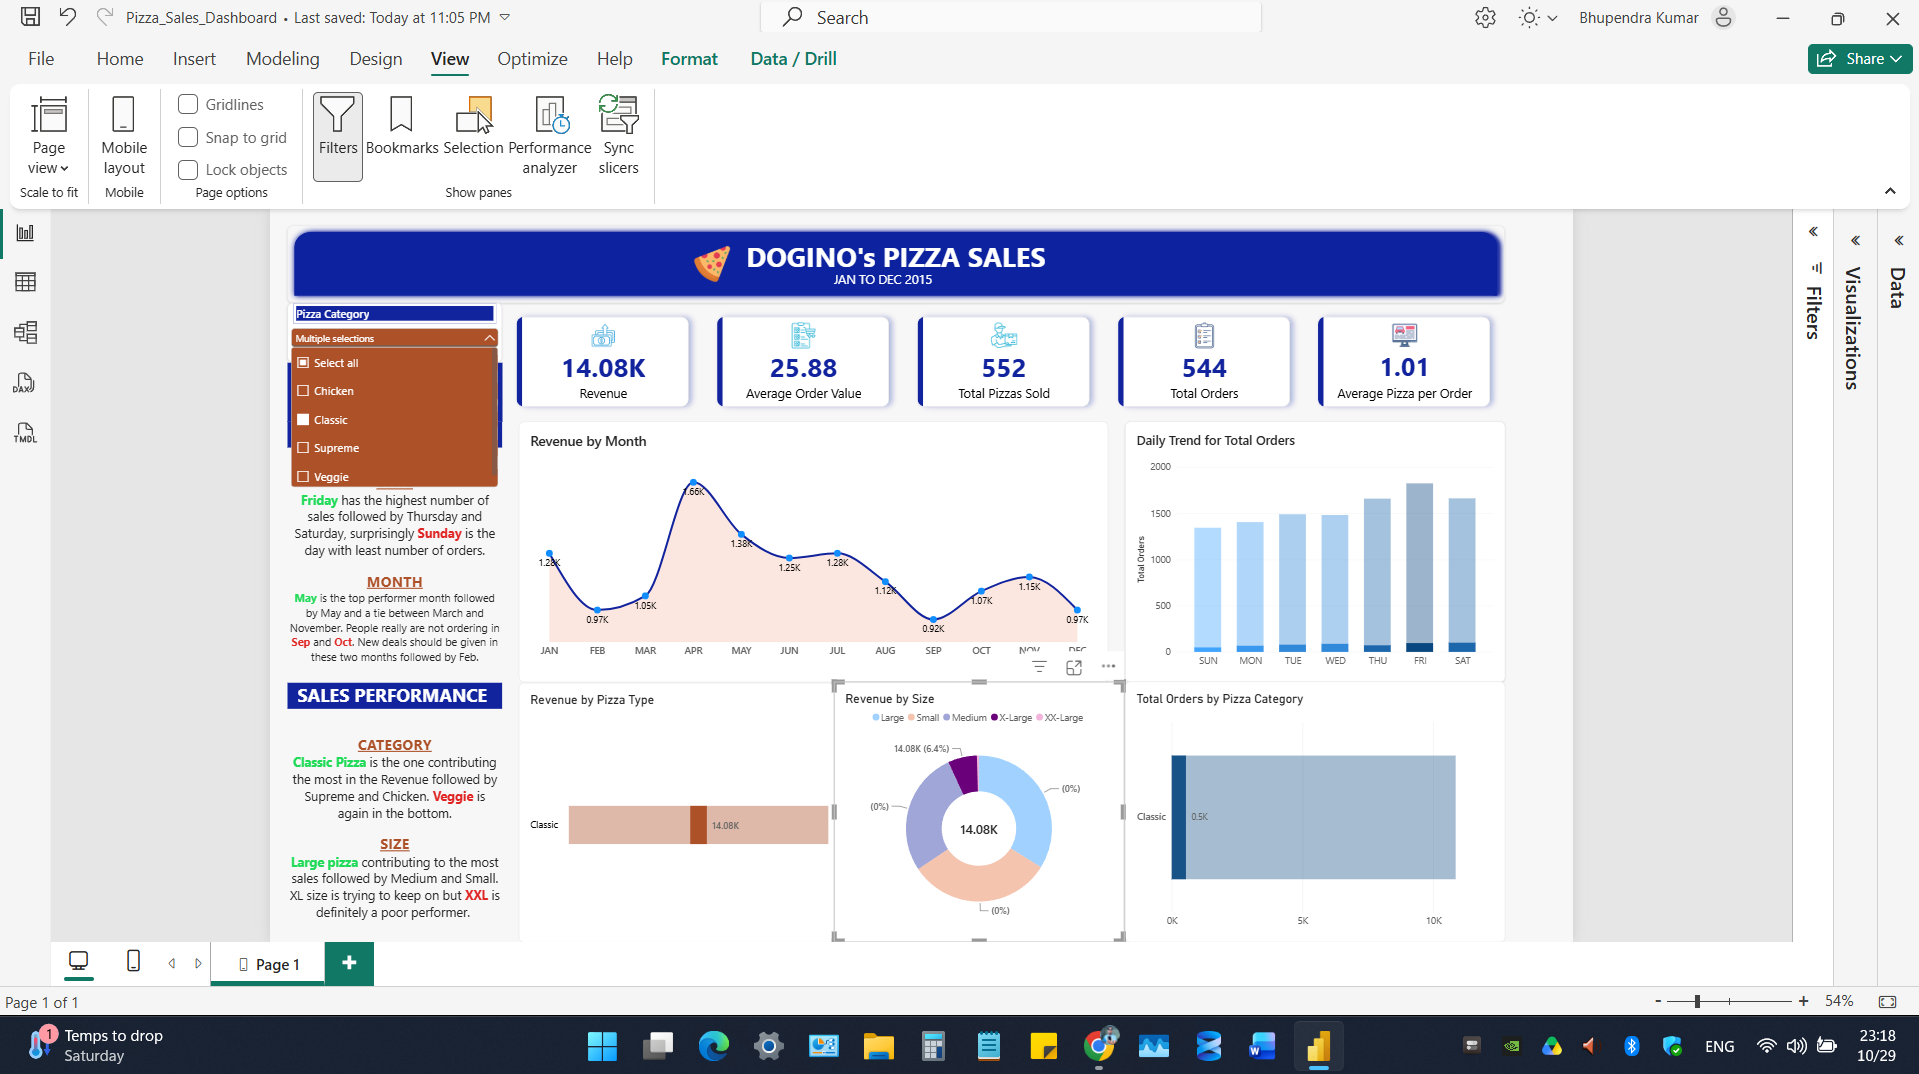

This screenshot's page, from the dashboard's own definition file:
{"tool":"powerbi","page":{"name":"Page 1","canvas":[1920,1080],"ordinal":0},"visuals":[{"type":"shape","box":[26.8,24.7,1790.7,113.2],"z":0},{"type":"cardVisual","fields":{"Data":["pizza_sales.Revenue","pizza_sales.Average Order Value","pizza_sales.Total Pizzas Sold","pizza_sales.Total_orders","pizza_sales.Average Pizza per Order"]},"box":[341.7,137.9,1475.8,175],"z":1000},{"type":"textbox","box":[830,90,154,38],"z":2000},{"type":"image","box":[491.9,53.5,319,55.6],"z":3000},{"type":"columnChart","title":"Daily Trend for Total Orders","fields":{"Category":["pizza_sales.Day"],"Y":["pizza_sales.Total Orders"]},"box":[1258,312,560,384],"z":4000},{"type":"stackedAreaChart","title":"Revenue by Month","fields":{"Category":["pizza_sales.Month Order"],"Y":["pizza_sales.Revenue"]},"box":[366,312,868,384],"z":5000},{"type":"funnel","title":"Revenue by Pizza Type","fields":{"Category":["pizza_sales.pizza_category"],"Y":["pizza_sales.Revenue"]},"box":[366,698,478,382],"z":6000},{"type":"donutChart","title":"Revenue by Size","fields":{"Category":["pizza_sales.pizza_size"],"Y":["pizza_sales.Revenue"]},"box":[830,696,428,384],"z":7000},{"type":"barChart","title":"Total Orders by Pizza Category","fields":{"Category":["pizza_sales.pizza_category"],"Y":["pizza_sales.Total Orders"]},"box":[1258,696,560,384],"z":8000},{"type":"textbox","box":[26,698,316,38],"z":9000},{"type":"textbox","box":[26,312,316,38],"z":10000},{"type":"textbox","box":[26,736,316,344],"z":11000},{"type":"textbox","box":[26,350,316,346],"z":12000},{"type":"slicer","fields":{"Values":["pizza_sales.pizza_category"]},"box":[26,138,316,88],"z":13000},{"type":"slicer","fields":{"Values":["pizza_sales.order_date"]},"box":[26,226,316,86],"z":14000}]}

Visuals, with their boxes on the page's 1920x1080 design canvas (x1, y1, x2, y2). These are canvas units, not pixel positions in the 1919x1074 screenshot, which may show the page scaled, cropped or inside an application window:
shape: (left=27, top=25, right=1818, bottom=138)
cardVisual - pizza_sales.Revenue x pizza_sales.Average Order Value: (left=342, top=138, right=1818, bottom=313)
textbox: (left=830, top=90, right=984, bottom=128)
image: (left=492, top=54, right=811, bottom=109)
"Daily Trend for Total Orders" columnChart: (left=1258, top=312, right=1818, bottom=696)
"Revenue by Month" stackedAreaChart: (left=366, top=312, right=1234, bottom=696)
"Revenue by Pizza Type" funnel: (left=366, top=698, right=844, bottom=1080)
"Revenue by Size" donutChart: (left=830, top=696, right=1258, bottom=1080)
"Total Orders by Pizza Category" barChart: (left=1258, top=696, right=1818, bottom=1080)
textbox: (left=26, top=698, right=342, bottom=736)
textbox: (left=26, top=312, right=342, bottom=350)
textbox: (left=26, top=736, right=342, bottom=1080)
textbox: (left=26, top=350, right=342, bottom=696)
slicer - pizza_sales.pizza_category: (left=26, top=138, right=342, bottom=226)
slicer - pizza_sales.order_date: (left=26, top=226, right=342, bottom=312)
